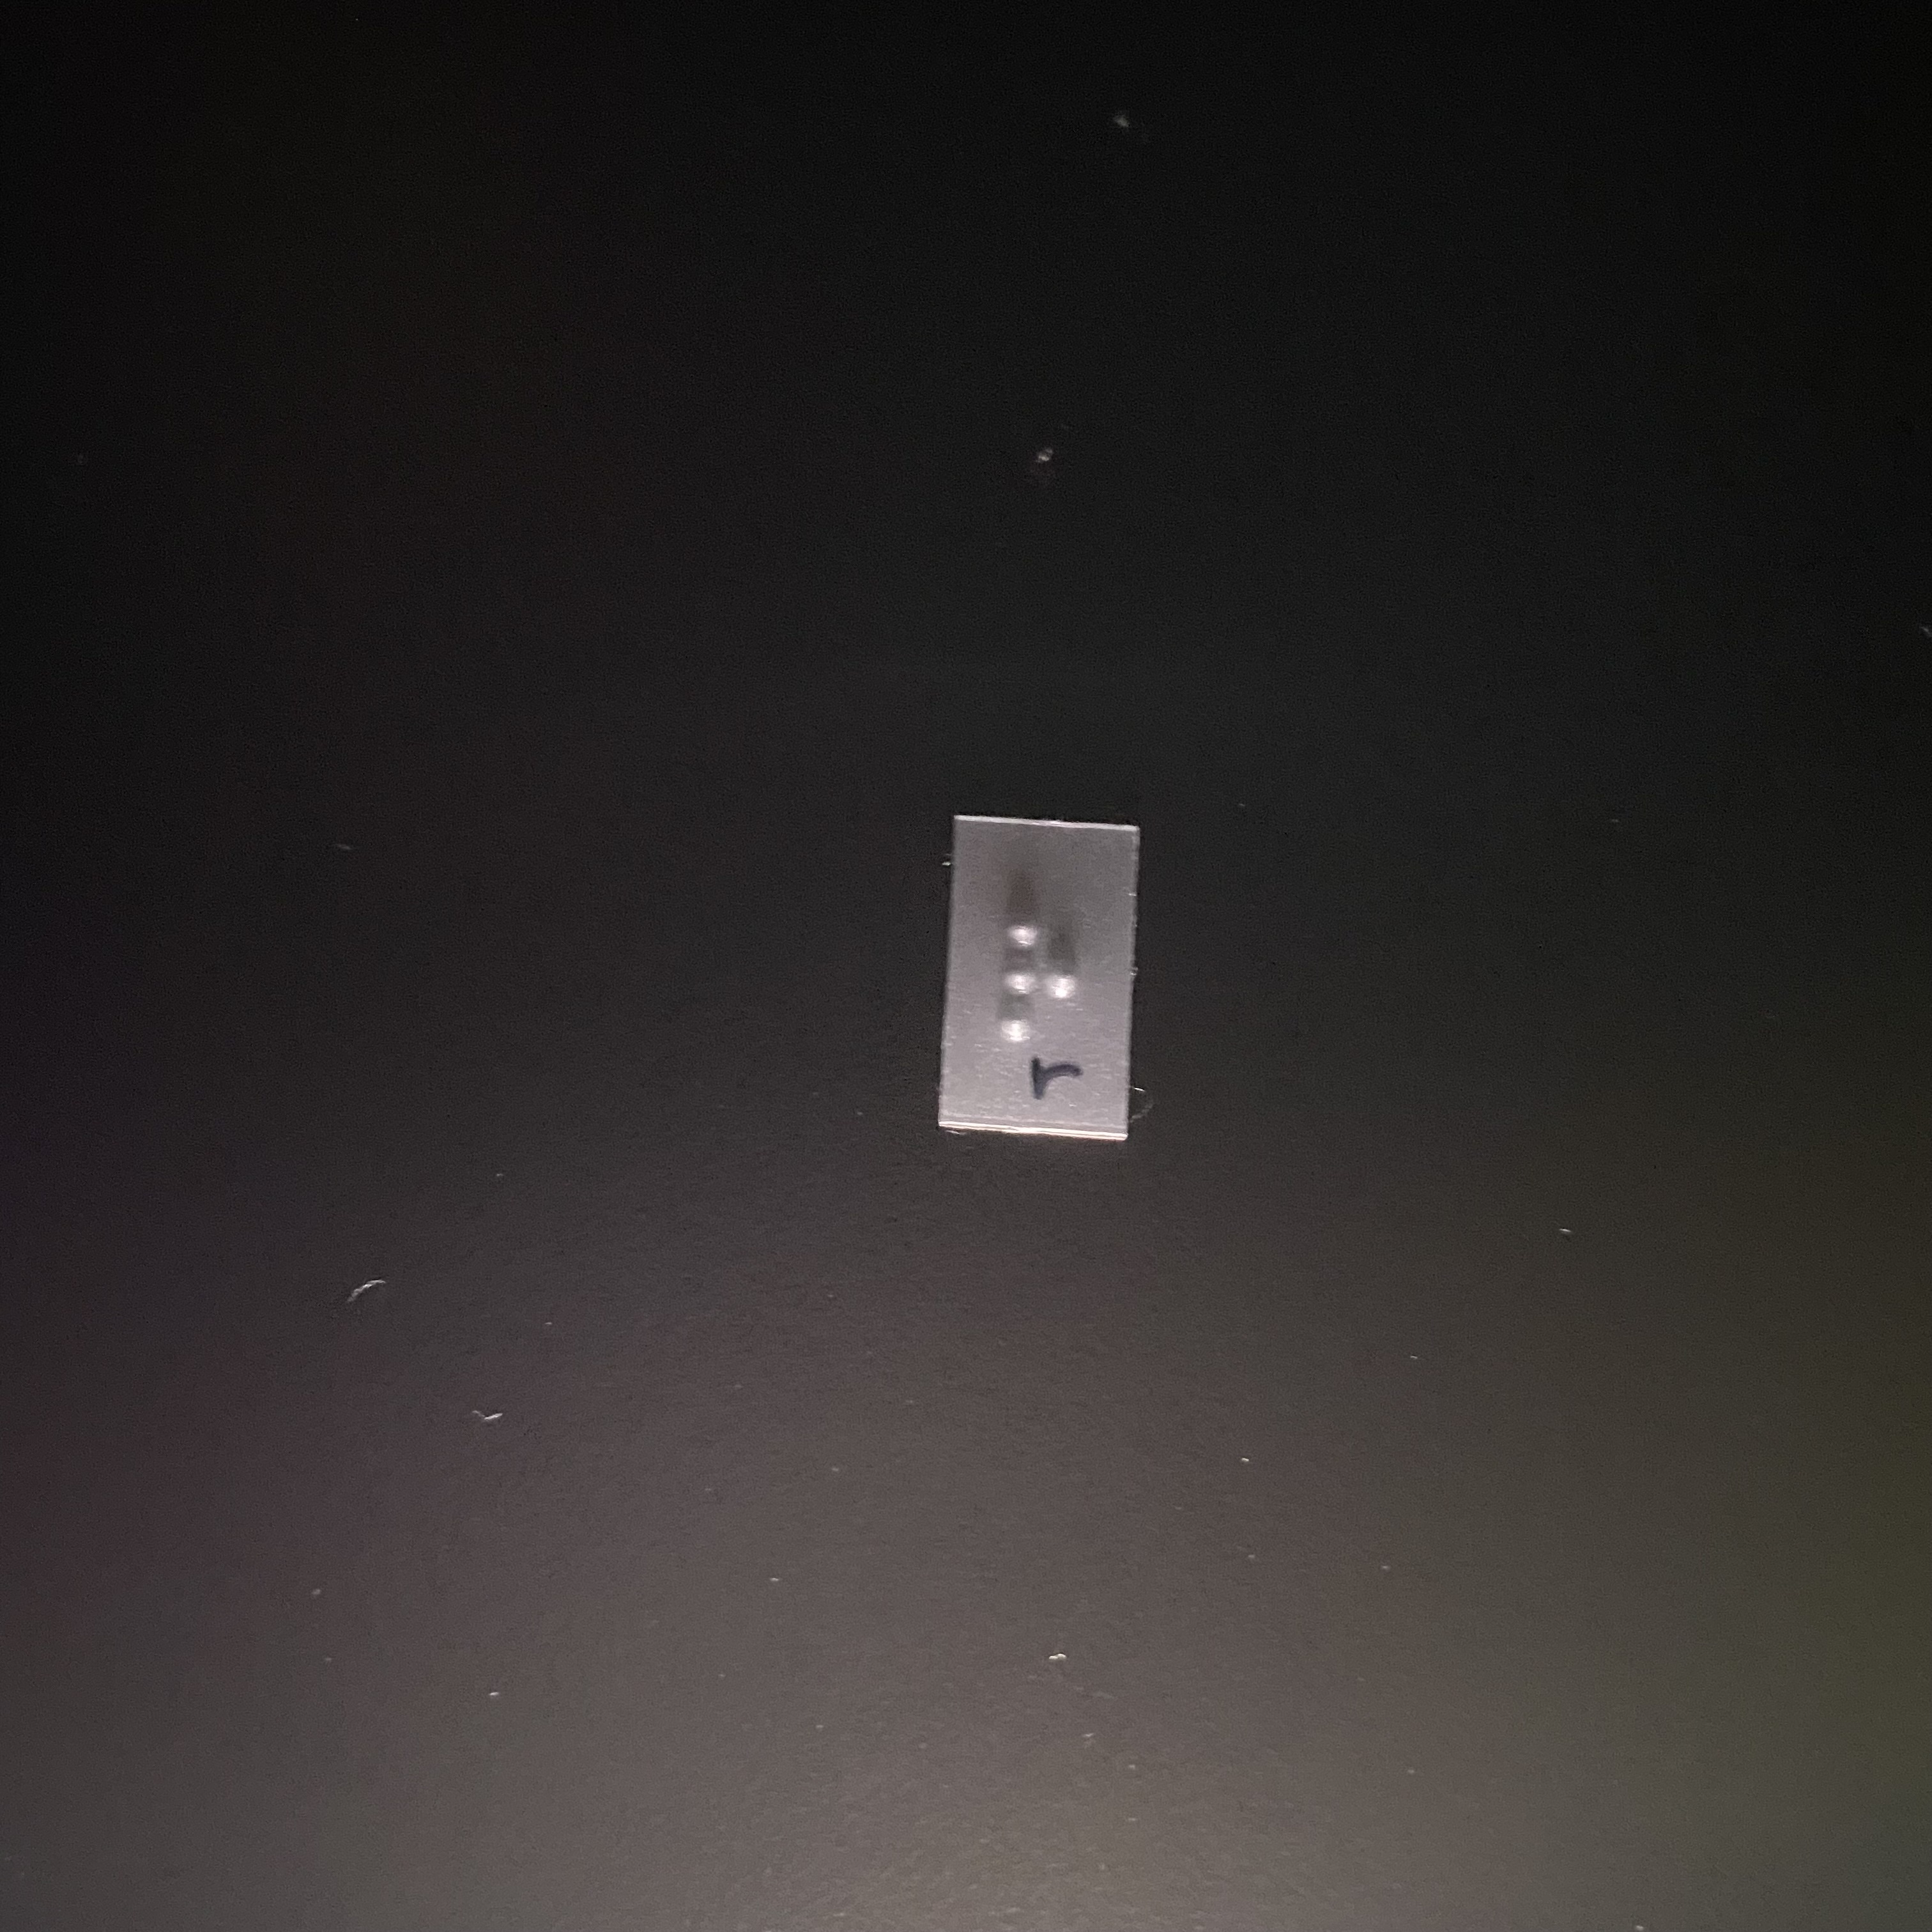r: (992, 883, 1084, 1062)
